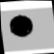correct: (5, 11, 36, 39)
